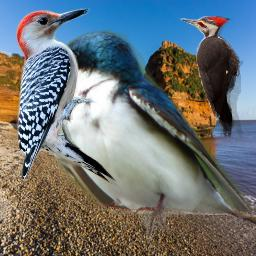Swallow: (43, 28, 256, 245)
Woodpecker: (7, 1, 125, 197), (179, 16, 243, 137)
